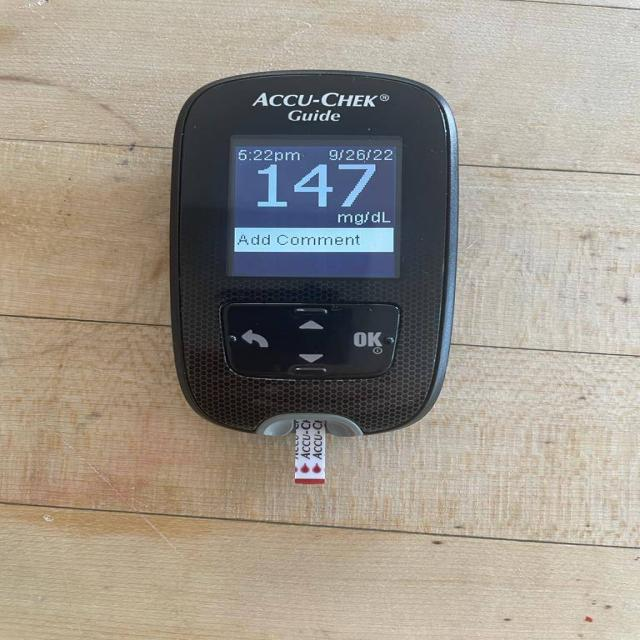gluco: (168, 70, 461, 439)
